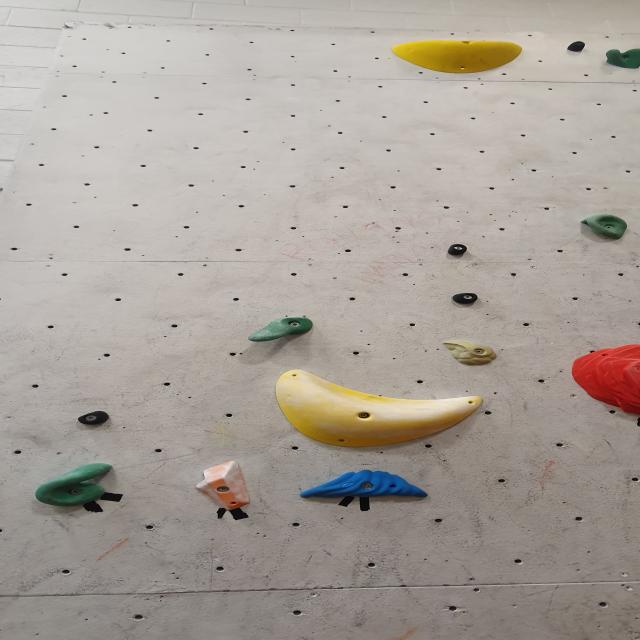Crimp: (573, 335, 640, 421), (298, 472, 432, 501), (440, 339, 501, 366)
Jug: (23, 456, 125, 525), (246, 316, 316, 343), (580, 213, 629, 240), (604, 49, 640, 72)
Pinch: (193, 458, 249, 522), (76, 412, 114, 427), (450, 292, 480, 304), (444, 242, 468, 254), (566, 40, 588, 53)
Sloper: (272, 368, 486, 451), (389, 41, 524, 76)
